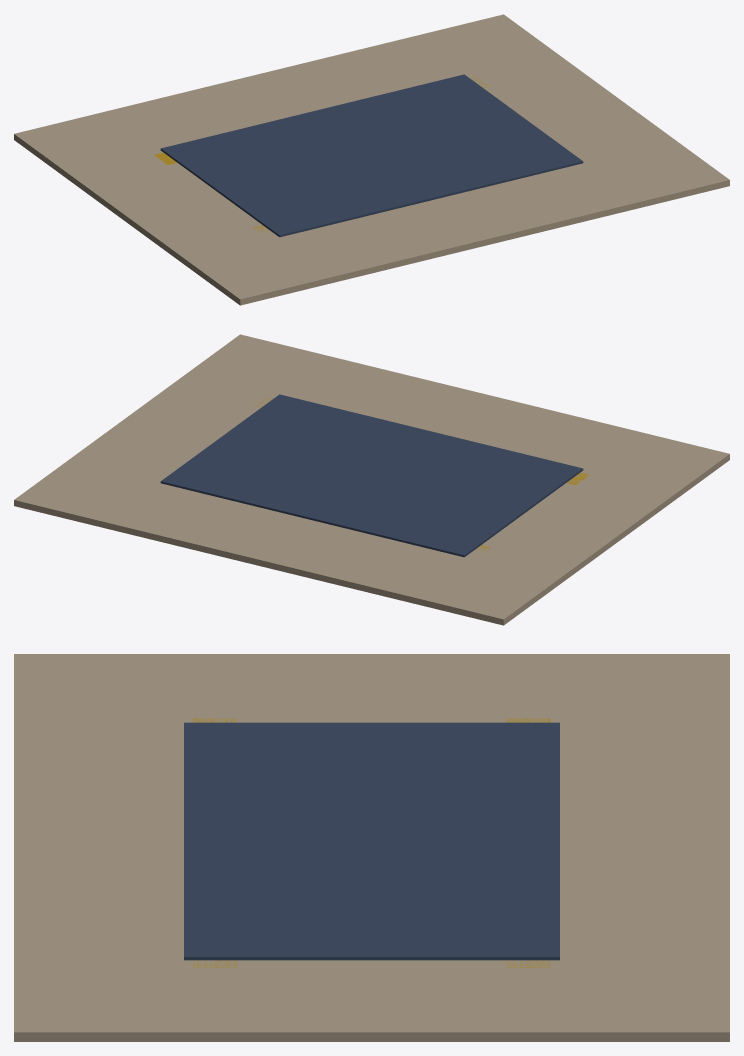
Rendered from stage_03_structural_frame.glb.
The picture shows the model from 3 angles, top to bottom: view 1: azimuth 30°, elevation 25°; view 2: azimuth 150°, elevation 25°; view 3: azimuth 270°, elevation 25°; orthographic projection. The views are drawn at different scales.
Parts seen in each view (by area): view 1: world; view 2: world; view 3: world.
Part boxes in pixels (x1,y1,x2,y2): world: (14,14,729,305); world: (14,334,729,625); world: (14,654,729,1041).
Size of the model in its own units: 10 by 0.84 by 8.
